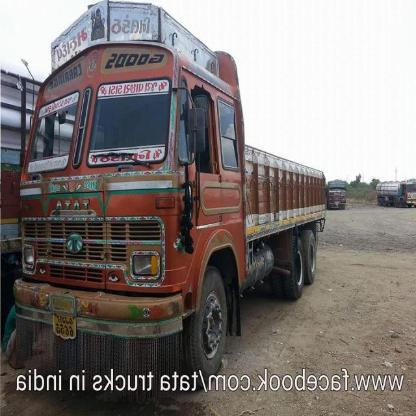truck: (8, 43, 324, 373), (373, 176, 415, 210), (324, 178, 346, 214)
